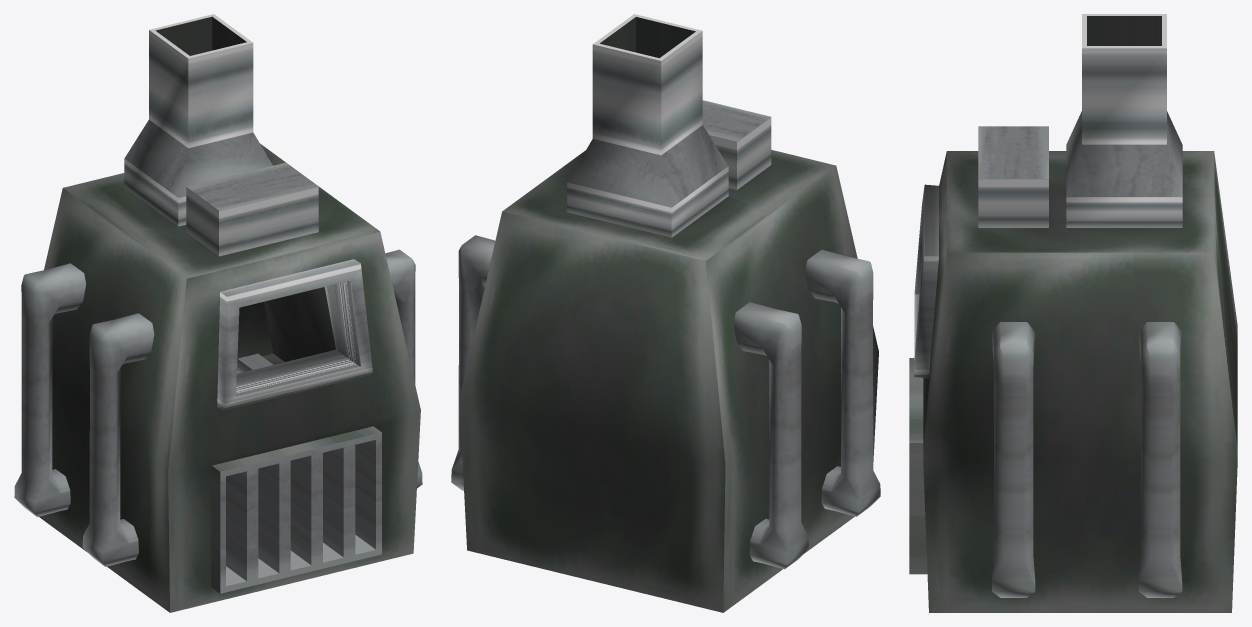
The model's file is BlastFurnacehand.fbx.
3 views of the same model, side by side, from view 1: azimuth 30°, elevation 25°; view 2: azimuth 150°, elevation 25°; view 3: azimuth 270°, elevation 25° (orthographic). The views are drawn at different scales.
Visible parts, largest first — view 1: Furnace; view 2: Furnace; view 3: Furnace.
Part boxes in pixels (x1,y1,x2,y2): Furnace: (14,14,422,612); Furnace: (451,14,880,612); Furnace: (909,14,1237,612).
Size of the model in its own units: 0.975 by 1.4 by 0.8054.
1 material, 1 textured.
